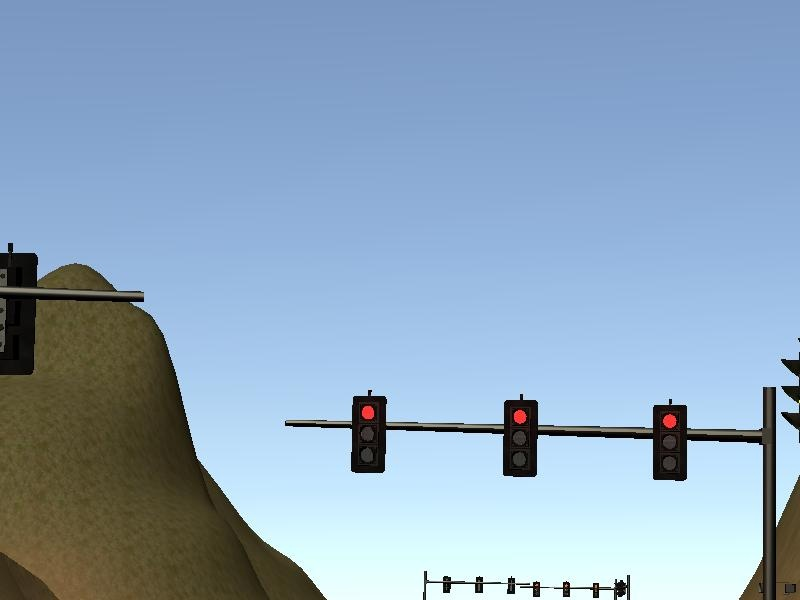red: (350, 394, 387, 471), (504, 400, 540, 478), (654, 403, 687, 484)
